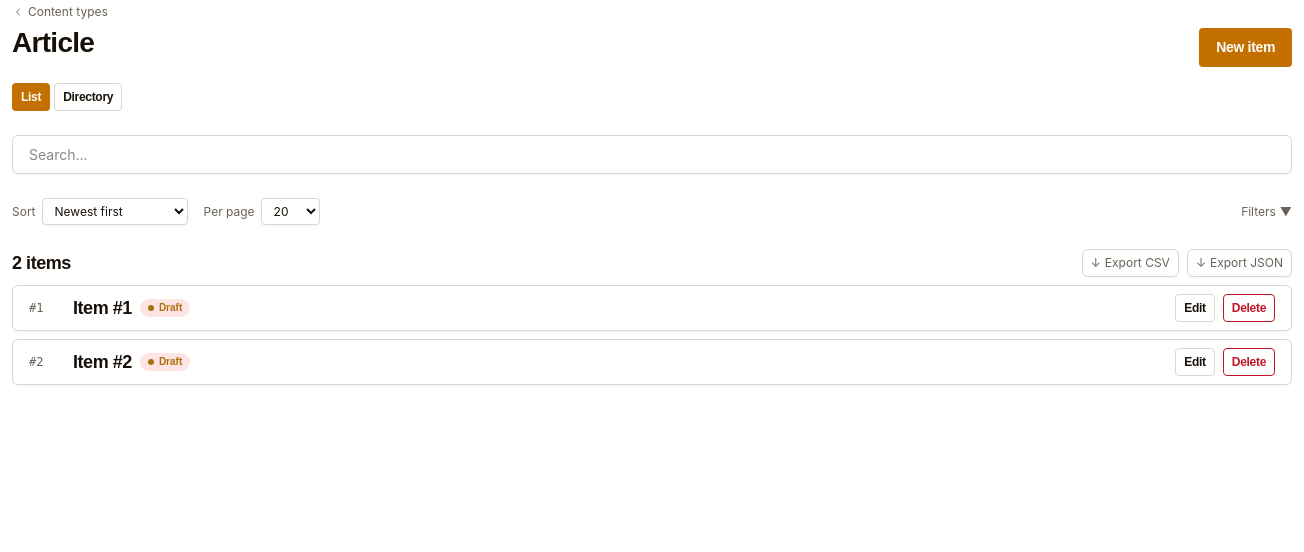
Scenario: EntityRecordsPage › filters records by selected tags
Expected: the text "Item #1" is shown, 73,298 -> 132,317
Expected: the text "Item #2" is shown, 73,352 -> 132,371
// 絞り込みアコーディオンを開く
Click the button "Filters ▼". click: x=1267, y=212
box: 1241,202 -> 1292,220
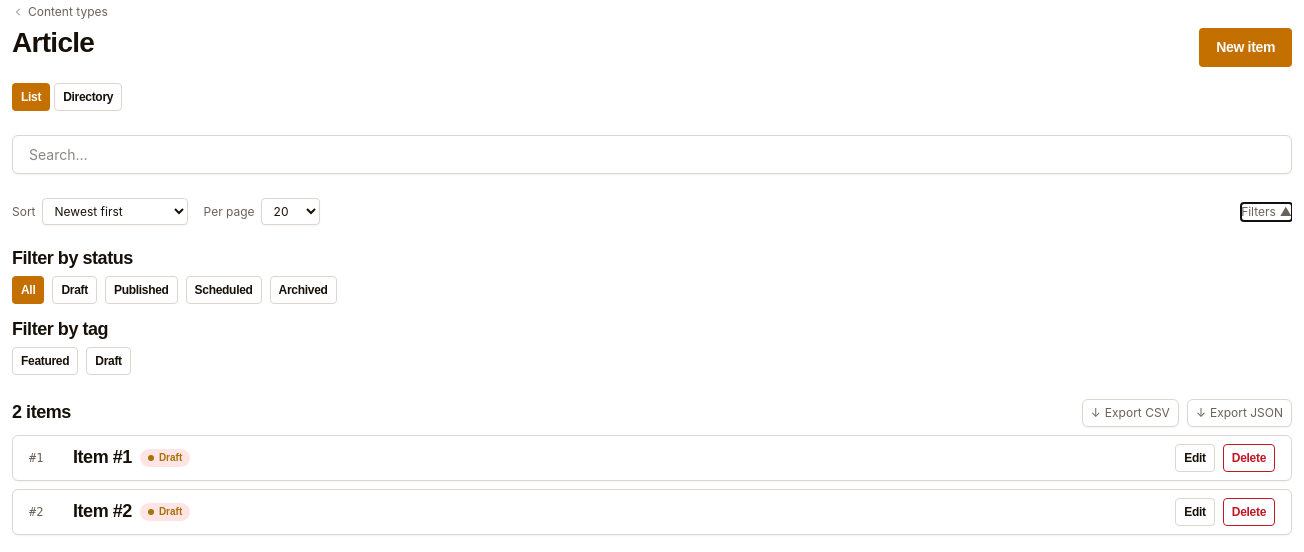
Click the button "Featured". click: x=45, y=361
box: 12,347 -> 78,375
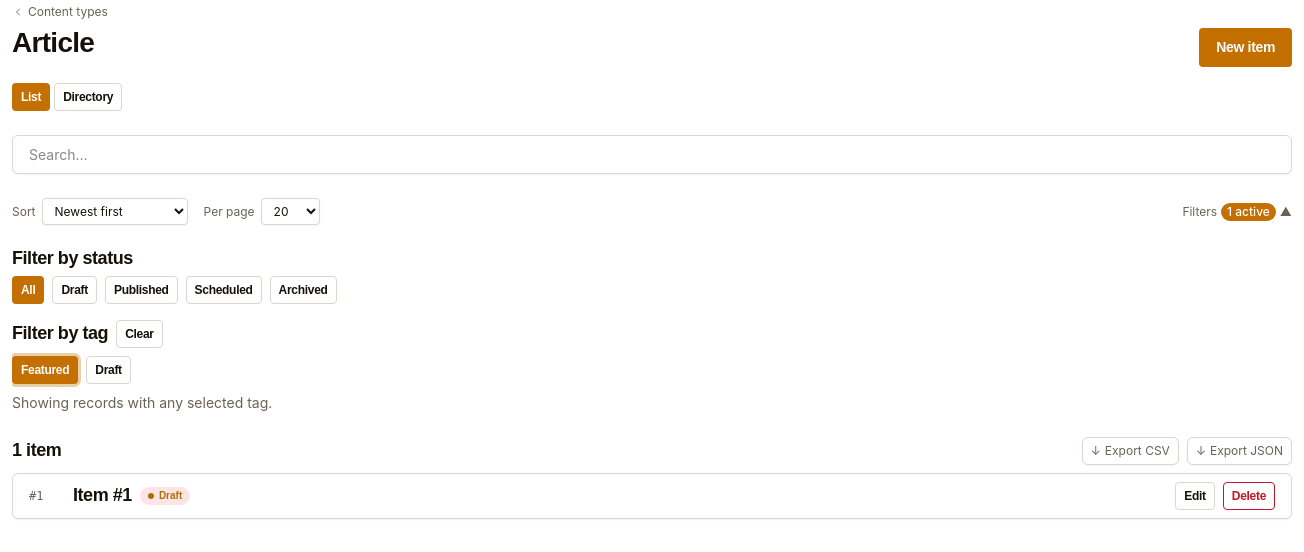
Expected: the text "Item #1" is shown, 73,486 -> 132,505
Expected: the text "Item #2" is gone
Expected: the heading "1 item" is shown, 12,441 -> 61,460
Click the button "Clear". click: x=139, y=334
box: 116,320 -> 163,348
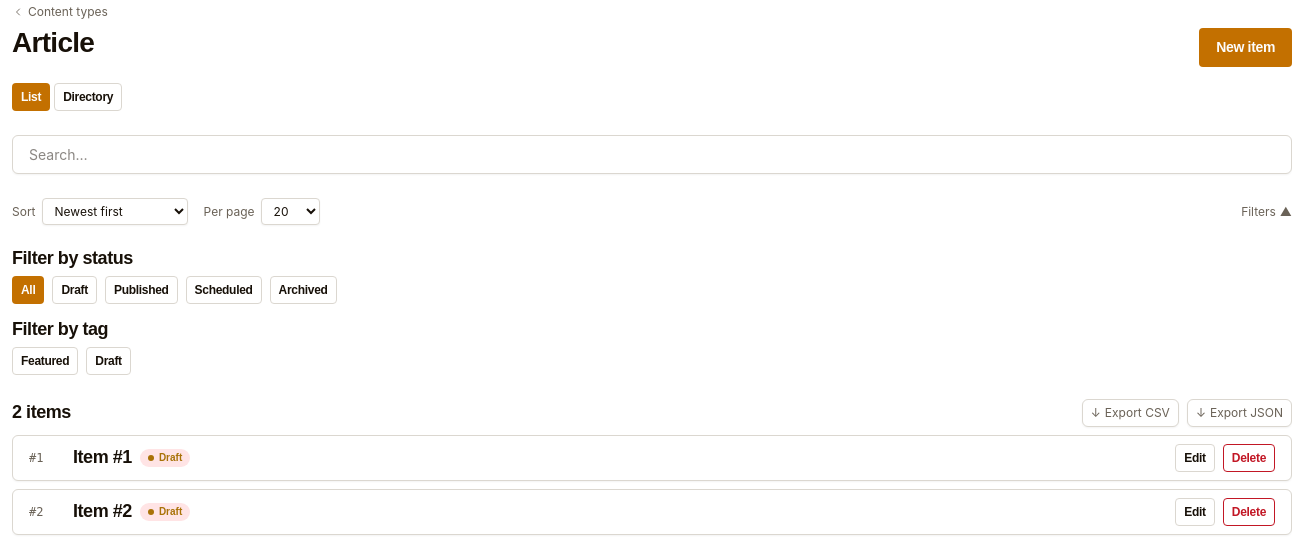
Expected: the text "Item #1" is shown, 73,448 -> 132,467
Expected: the text "Item #2" is shown, 73,502 -> 132,521
Expected: the heading "2 items" is shown, 12,403 -> 71,422
